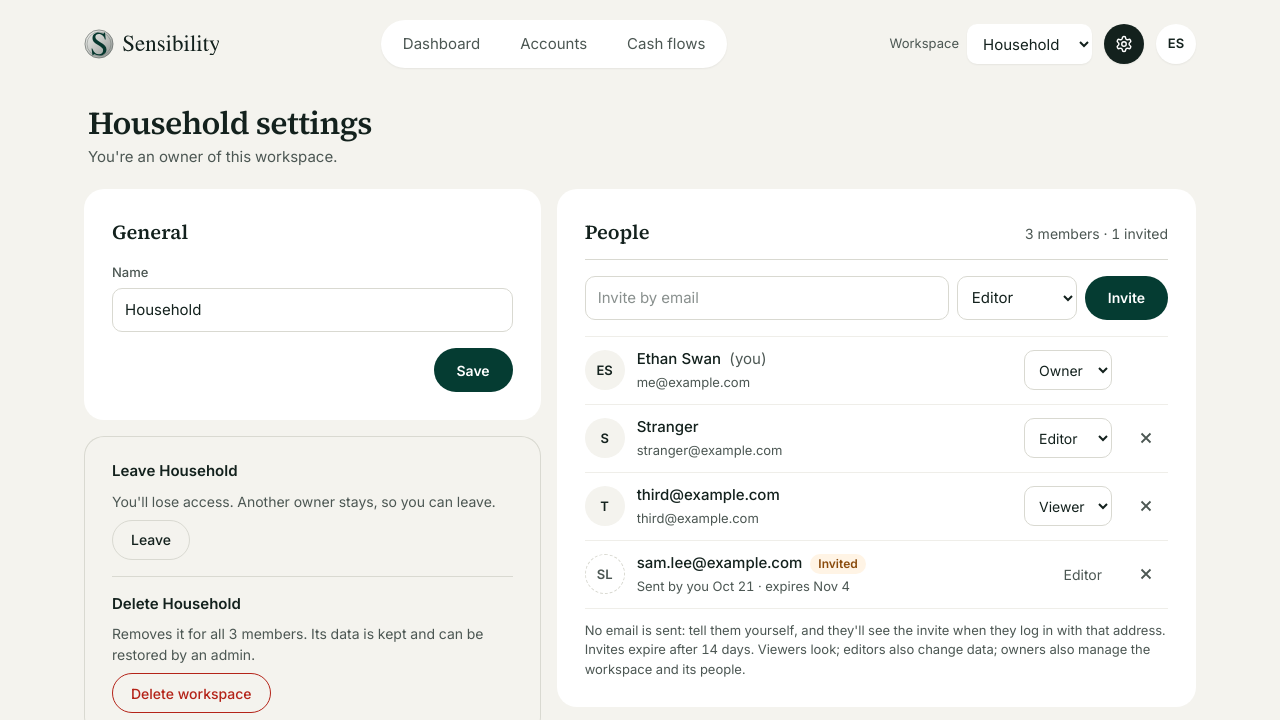
Test: settings, as the owner › demoting yourself leaves a read-only page
The width and height of the screenshot is (1280, 720).
Select "Editor" in the dropdown named "Role for Ethan Swan": (1068, 370) [1024,350,1112,390]
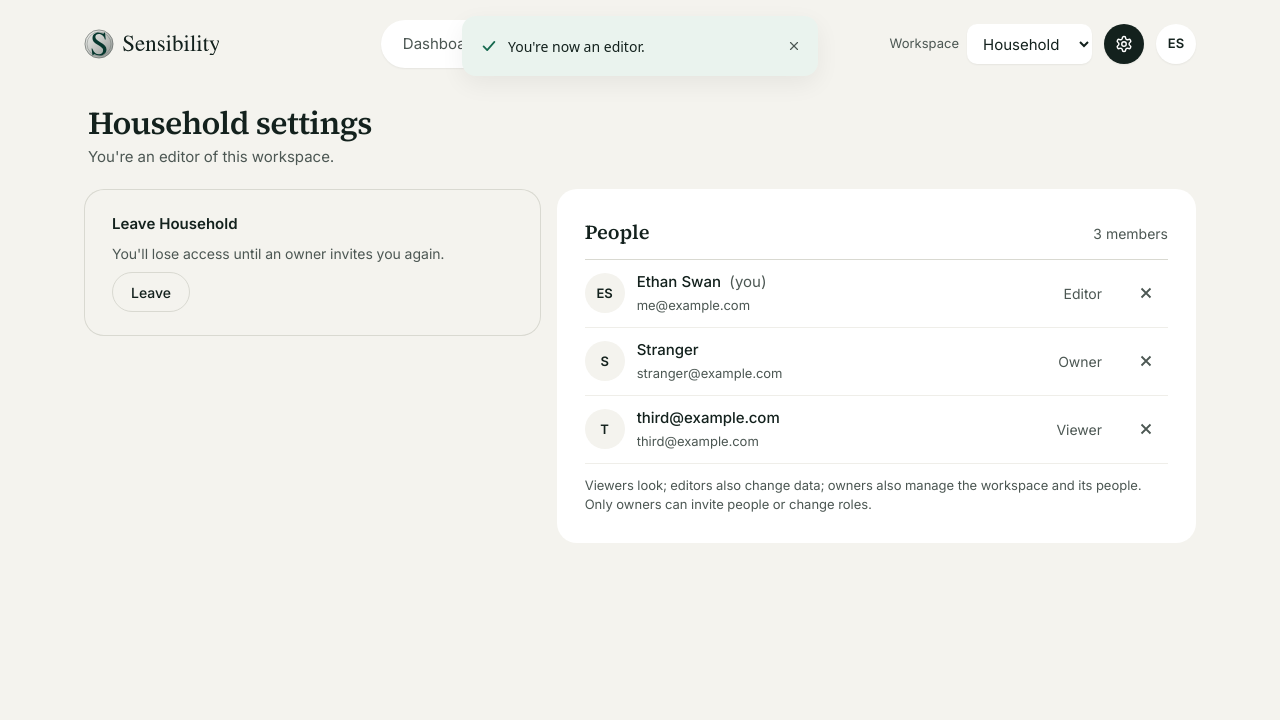
Result: the text "You're now an editor." is shown at [508,36,645,56]
Result: the text "You're an editor of this workspace." is shown at [88,147,334,166]
Result: the text "Name" is gone
